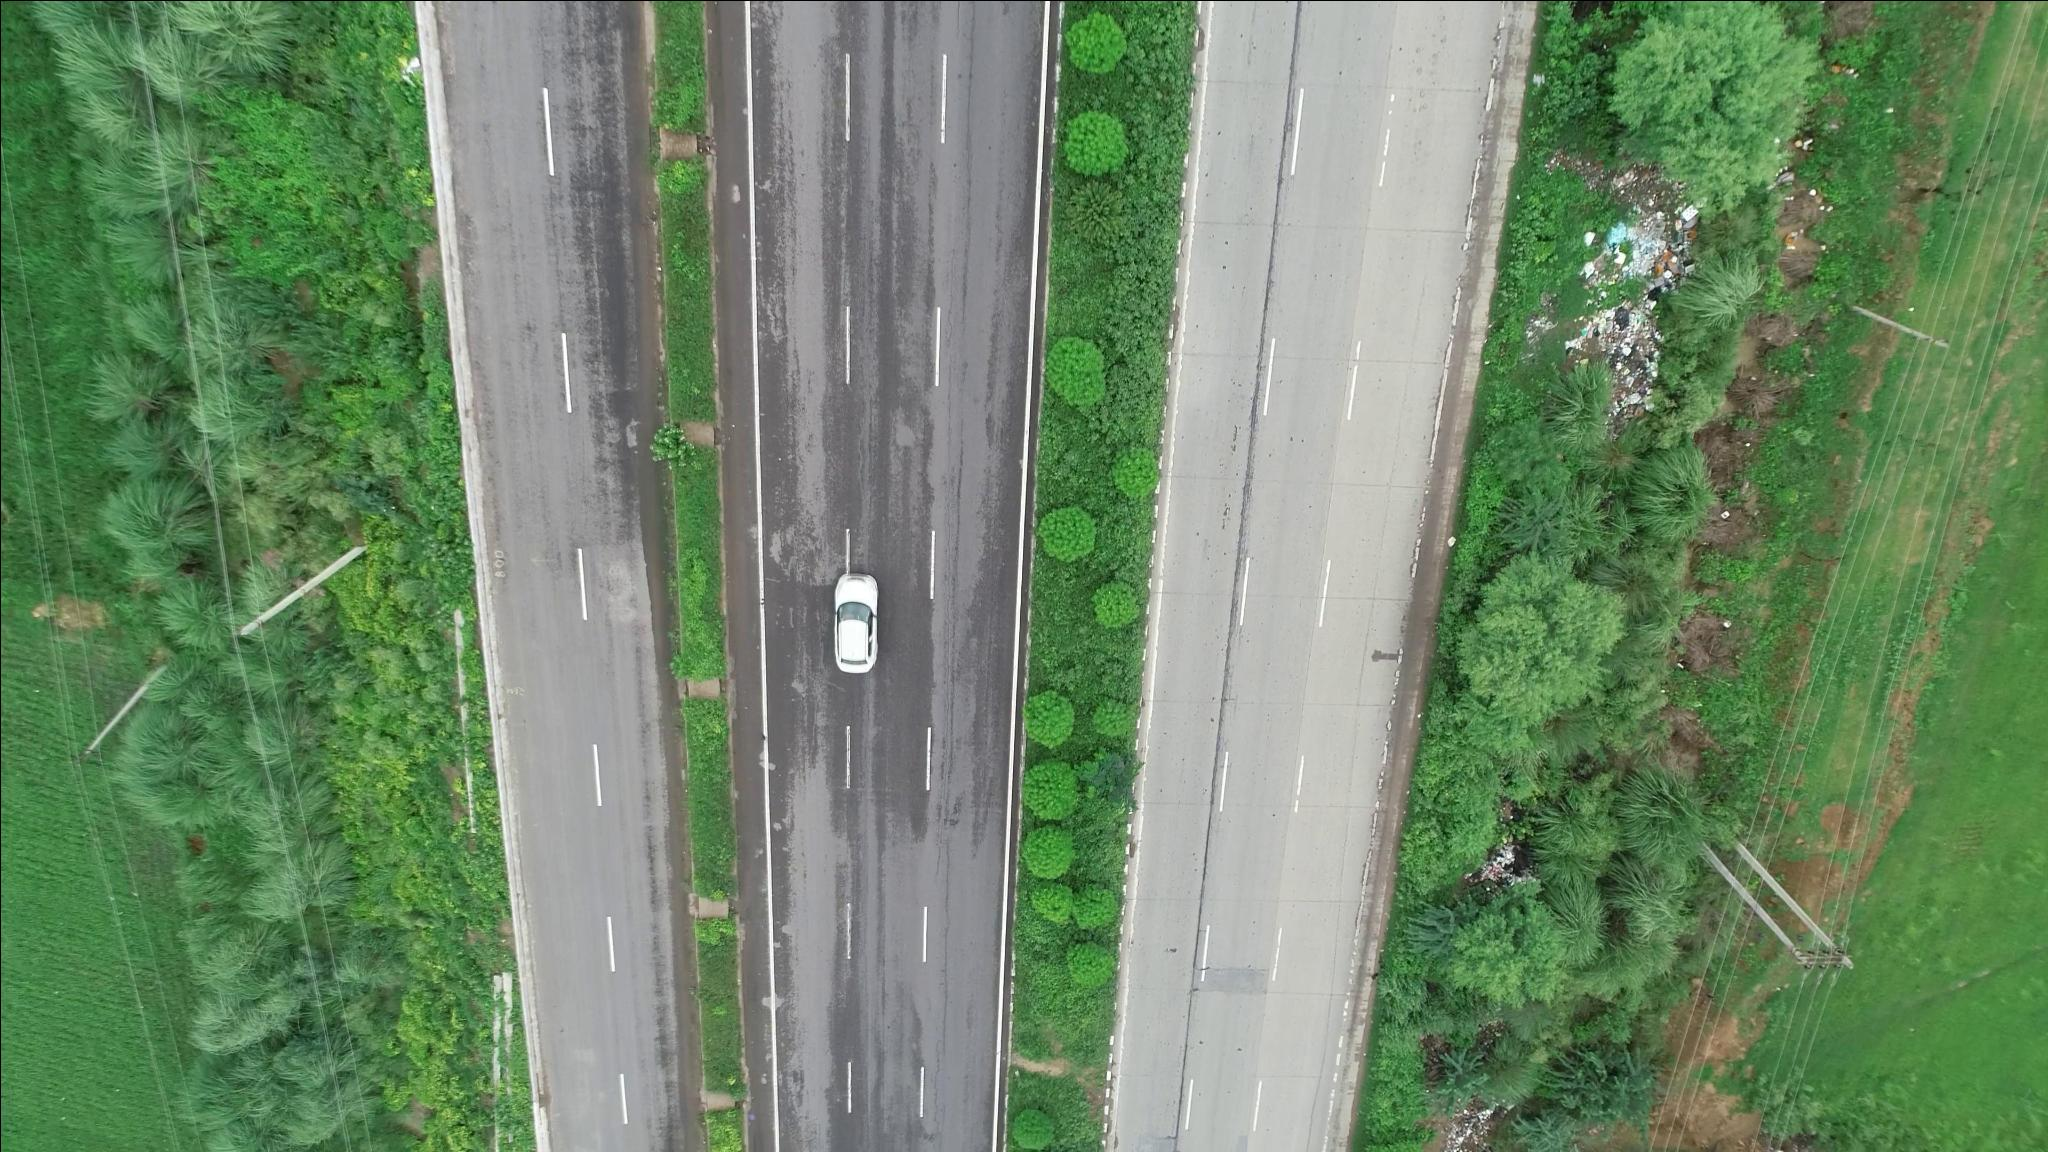Cracks: (949, 18, 980, 340), (930, 844, 964, 1118)
Ravelling: (938, 466, 971, 772)
